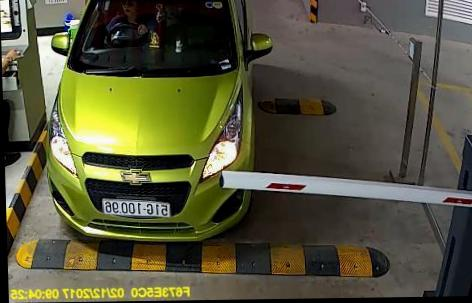License_Plate: (102, 198, 173, 219)
